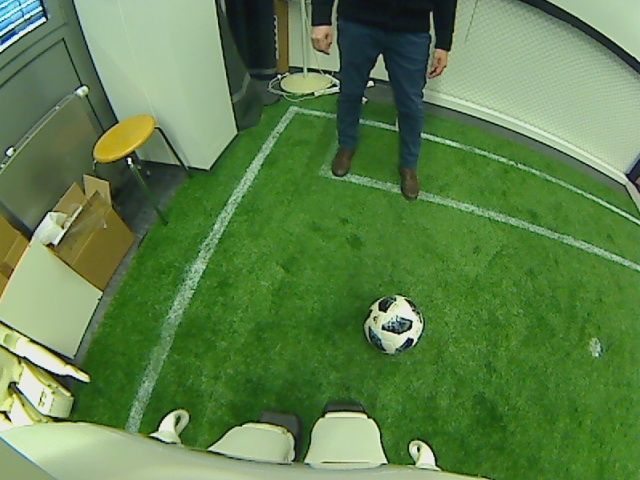ball: (362, 292, 425, 357)
